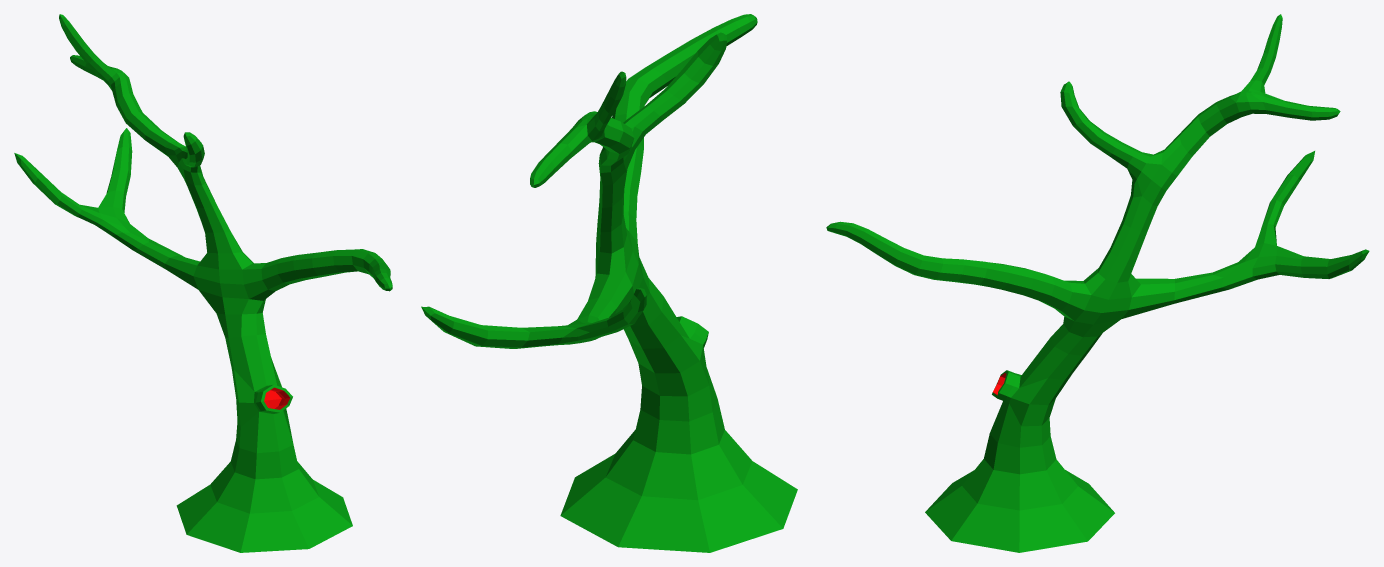
File: drzewoczerwone2.fbx
3 renders of one model, left to right at view 1: azimuth 30°, elevation 25°; view 2: azimuth 150°, elevation 25°; view 3: azimuth 270°, elevation 25°, orthographic. The views are drawn at different scales.
Parts seen in each view (by area): view 1: Cube; view 2: Cube; view 3: Cube.
Boxes of the visible parts, x1,y1,x2,y2 form: Cube: [14, 14, 392, 552]; Cube: [421, 14, 797, 552]; Cube: [826, 14, 1369, 552].
Size of the model in its own units: 1.7 by 3.71 by 4.
